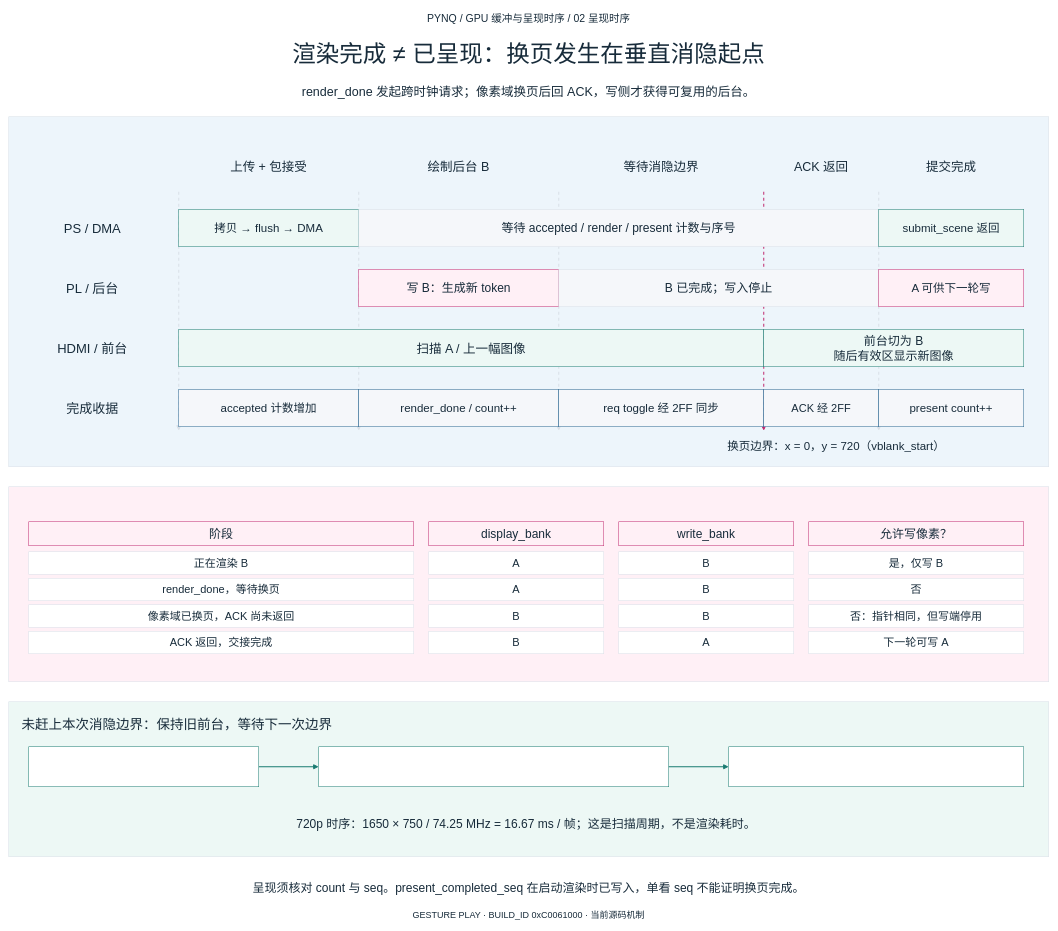
This 1058x931 diagram has some shape labels left out. Each missing label, with the box of its shape:
V₁ 之后请求到达像素域 前台保持，扫描不会等待渲染器: (318, 746, 669, 787)
V₁：同步请求尚不可见 本次不换页: (28, 746, 259, 787)
V₂：请求可见 → 交换 A / B 随后 ACK 允许写侧交接: (728, 746, 1024, 787)
一帧成功提交的因果顺序 · 横轴不按实际耗时比例: (8, 116, 1049, 467)
读写所有权：ACK 交接窗口内也不能写前台: (8, 486, 1049, 682)
